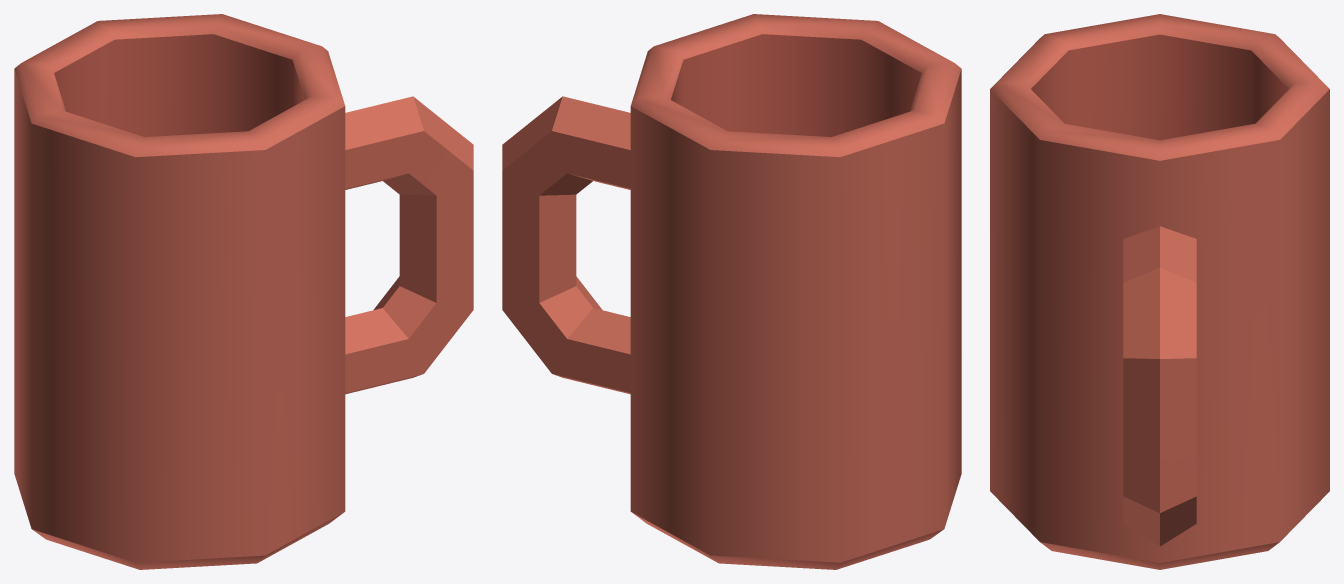
File: cup_red.fbx
3 views of the same model, side by side, from view 1: azimuth 30°, elevation 25°; view 2: azimuth 150°, elevation 25°; view 3: azimuth 270°, elevation 25° (orthographic).
Parts seen in each view (by area): view 1: cup_red; view 2: cup_red; view 3: cup_red.
Boxes of the visible parts, <box> form: cup_red: <box>14,14,473,569</box>; cup_red: <box>502,14,961,569</box>; cup_red: <box>990,14,1329,569</box>.
Bounding box in the file's own units: 12.58 × 11.59 × 8.45.
